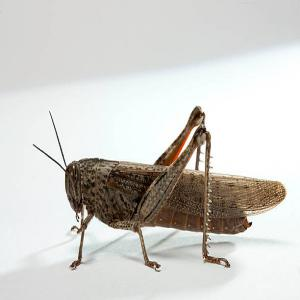locust: (51, 118, 288, 248)
